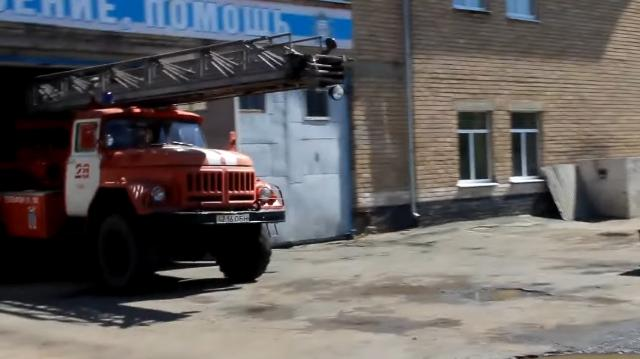fire fighting vehicle: (1, 30, 346, 296)
